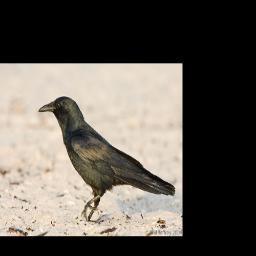Crow: (37, 95, 177, 222)
